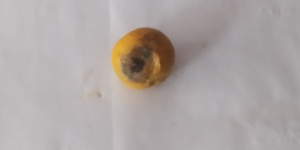BAD: (110, 25, 182, 92)
